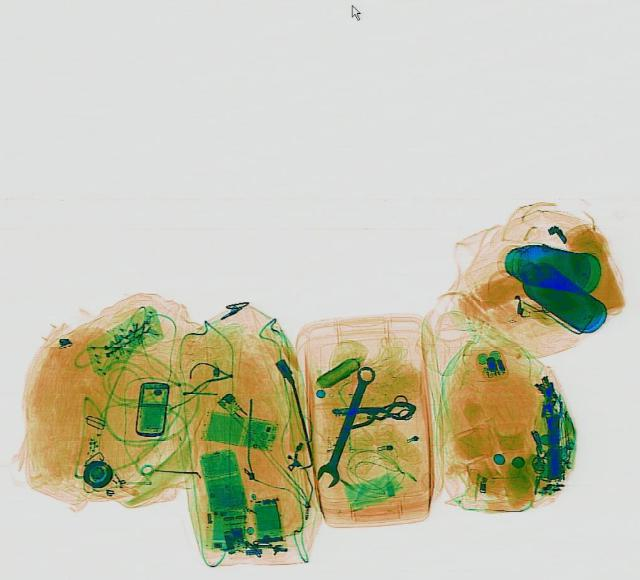Wrench: (310, 363, 378, 488)
